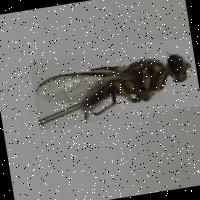Oriental-fruit-fly: (29, 37, 200, 131)
